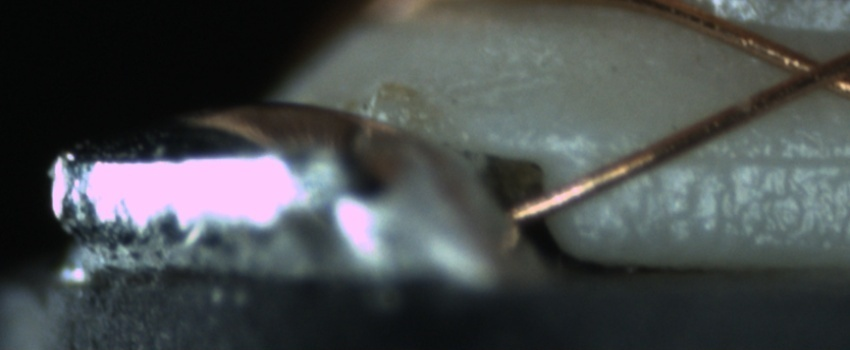CL: (767, 41, 848, 100)
DL: (611, 123, 845, 191)
